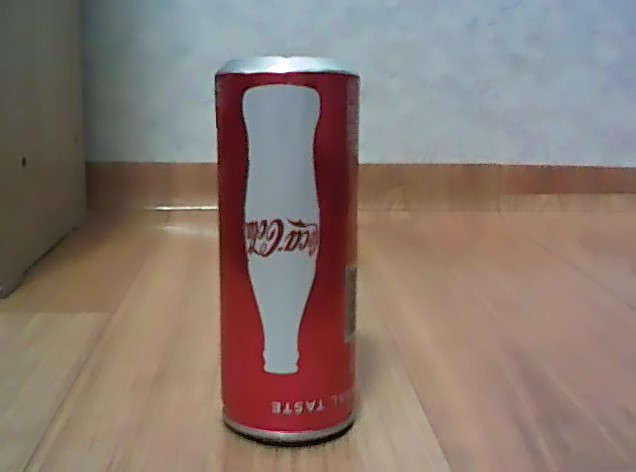Can: (211, 53, 365, 451)
